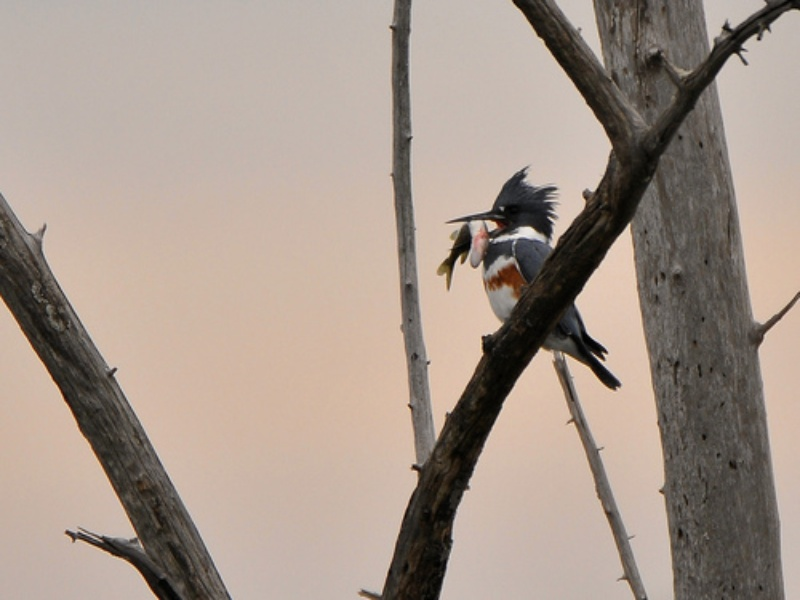kingfisher: (442, 160, 626, 398)
